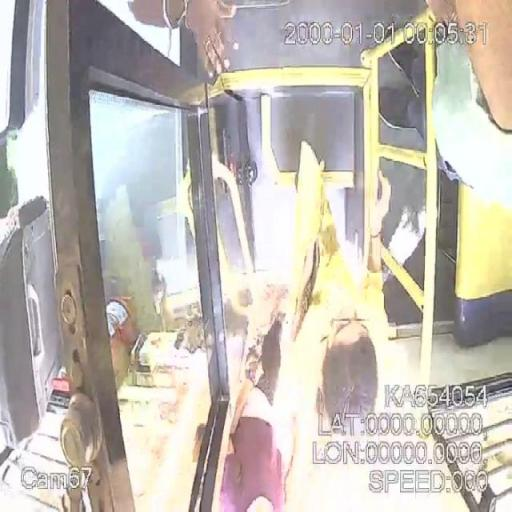persona: (286, 139, 392, 427), (225, 301, 304, 512)
